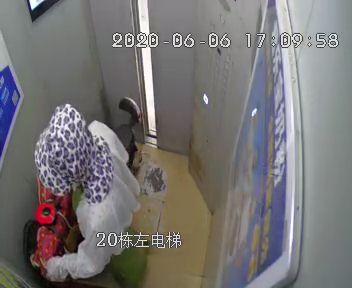Electric-bicycle: (22, 93, 140, 271)
